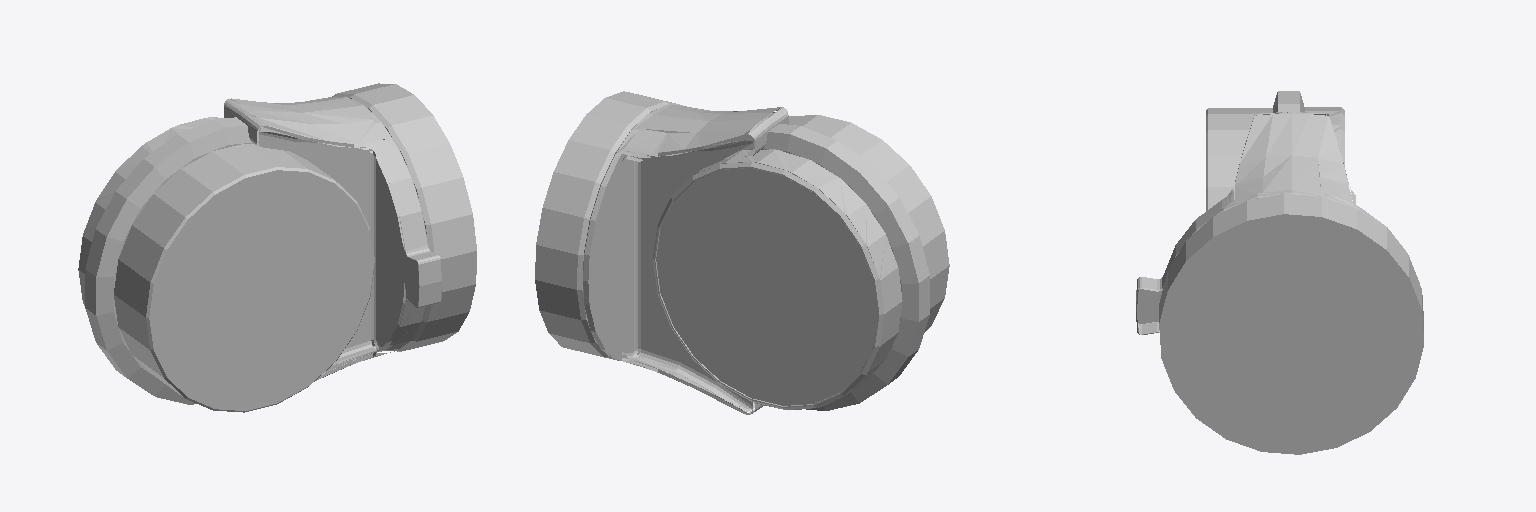
File: RL_hip.obj
3 views of the same model, side by side, from view 1: azimuth 30°, elevation 25°; view 2: azimuth 150°, elevation 25°; view 3: azimuth 270°, elevation 25° (orthographic).
Visible parts, largest first — view 1: object23_022-mesh; view 2: object23_022-mesh; view 3: object23_022-mesh.
Boxes of the visible parts, x1=… form: object23_022-mesh: x1=78, y1=83, x2=476, y2=412; object23_022-mesh: x1=535, y1=91, x2=949, y2=414; object23_022-mesh: x1=1136, y1=91, x2=1423, y2=454.
Size of the model in its own units: 0.1499 by 0.1262 by 0.1165.